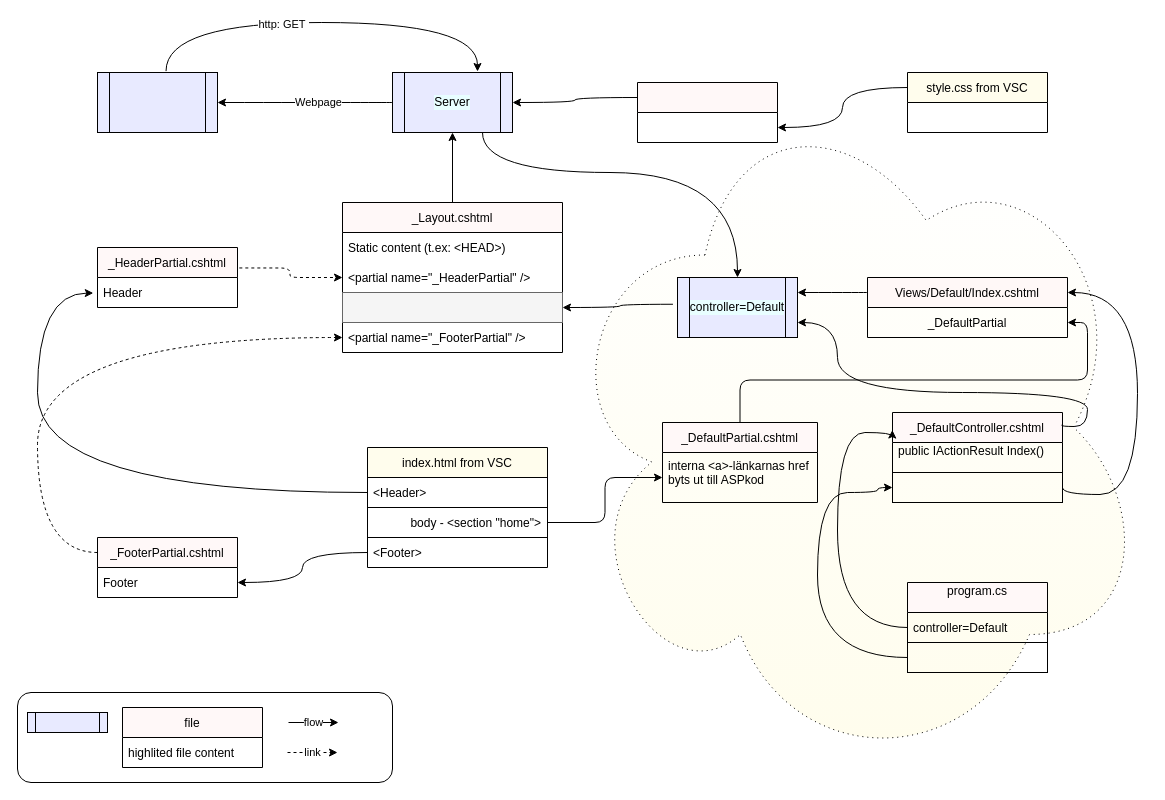
Image size: 1165x800. Some labels were removed from this diagram. Each missing label, with the centre of its shape:
"@RenderBody()" goes at pixel 452 307.
"action=Index" goes at pixel 977 657.
"process" goes at pixel 67 722.
"return View();" goes at pixel 977 487.
"site.css" goes at pixel 707 112.
"Webclient" goes at pixel 157 102.
